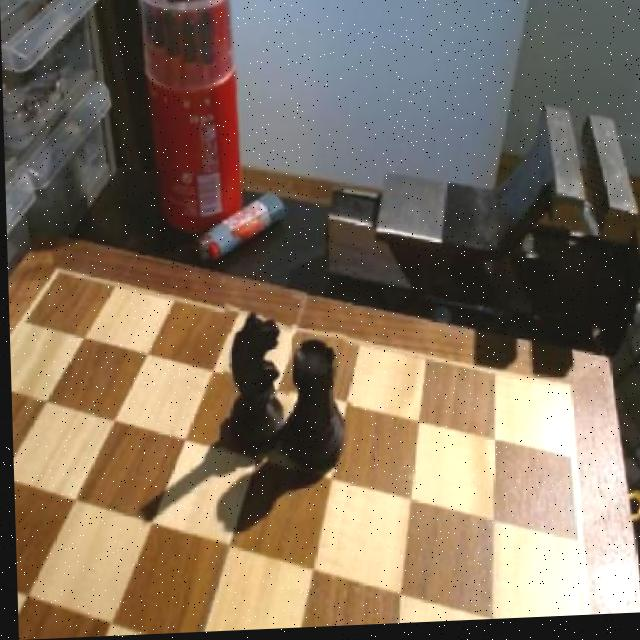black-king: (215, 306, 291, 459)
black-queen: (282, 334, 351, 479)
